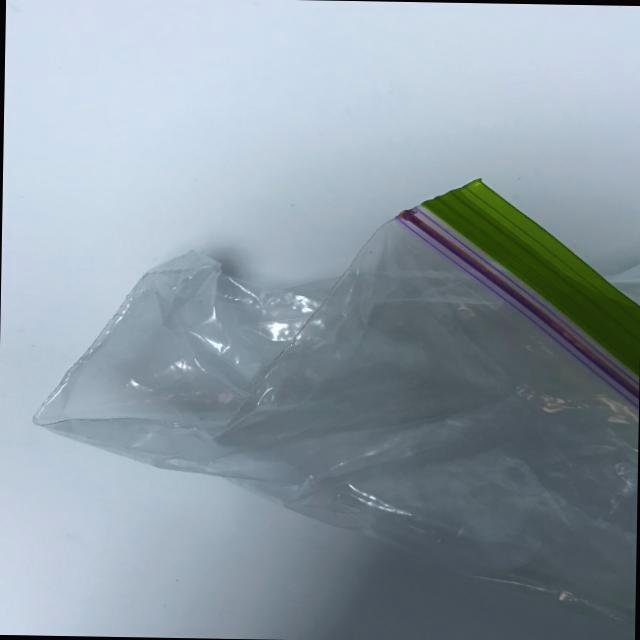plastic: (24, 163, 640, 616)
